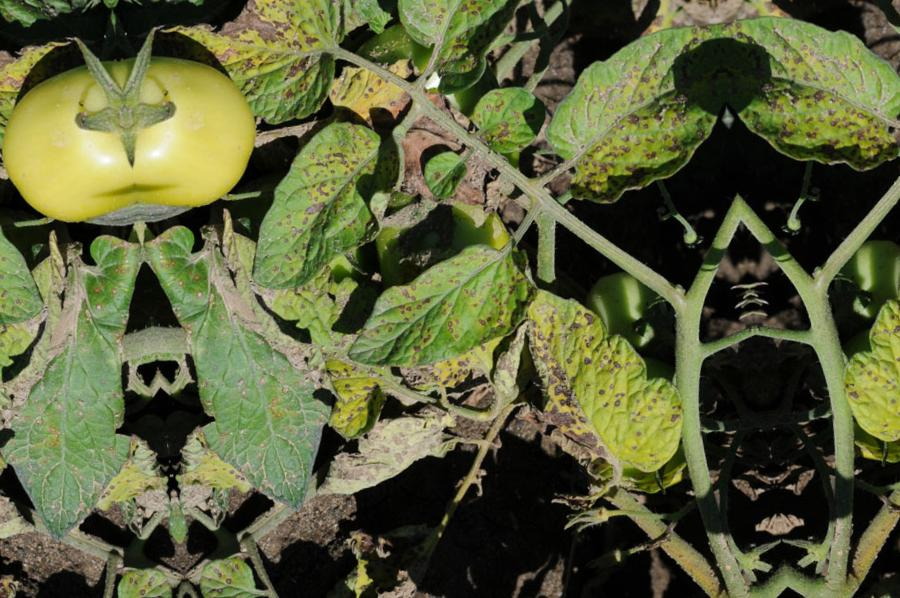Tomato Septoria leaf spot: (533, 10, 736, 214), (509, 273, 697, 493), (333, 223, 547, 379), (246, 116, 413, 305), (163, 0, 381, 136), (383, 0, 548, 65)
